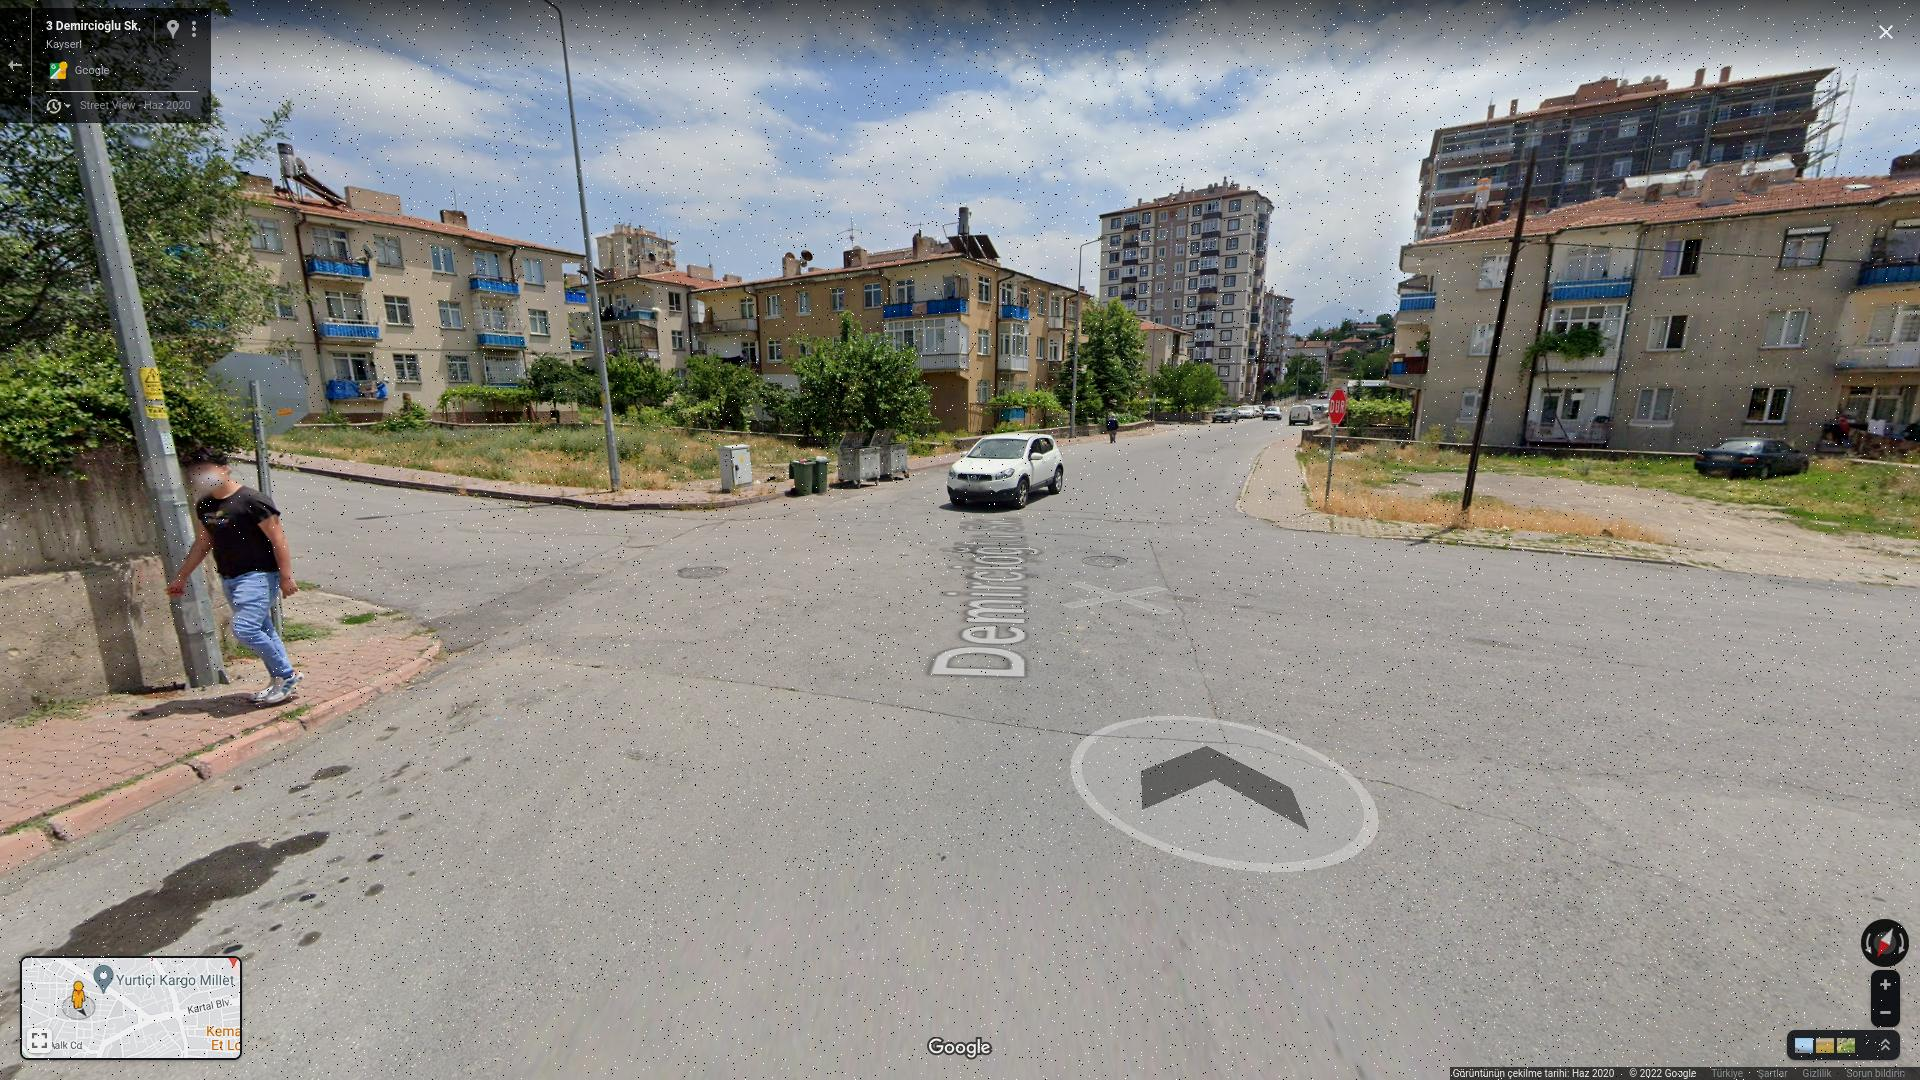stop: (1328, 389, 1346, 423)
